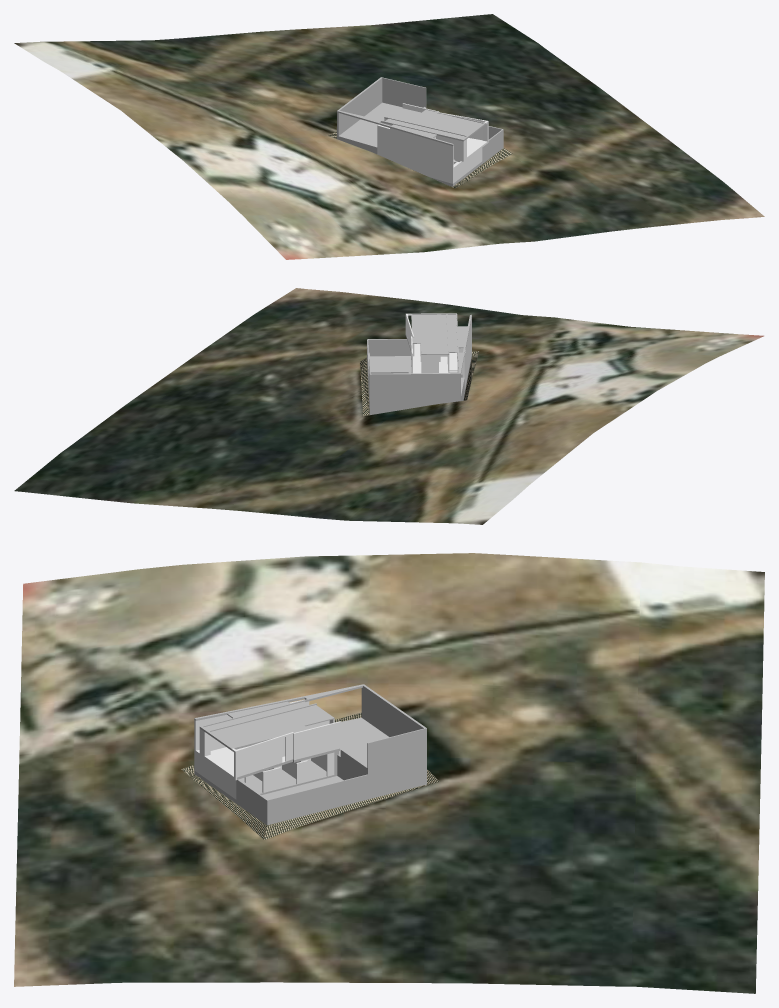
File: L8_MEXICO_SKP_3.glb
The picture shows the model from 3 angles, top to bottom: view 1: azimuth 30°, elevation 25°; view 2: azimuth 150°, elevation 25°; view 3: azimuth 270°, elevation 25°; orthographic projection. The views are drawn at different scales.
Visible parts, largest first — view 1: skp; view 2: skp; view 3: skp.
Boxes of the visible parts, x1,y1,x2,y2 form: skp: [14, 14, 764, 259]; skp: [14, 288, 763, 524]; skp: [14, 553, 764, 993].
Size of the model in its own units: 79.35 by 15.35 by 80.39.
3 materials, 2 textured.
